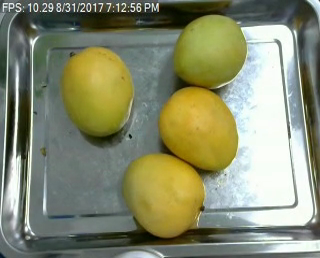Mango: (121, 152, 208, 241), (159, 84, 243, 170), (61, 46, 136, 137), (173, 13, 246, 91)
